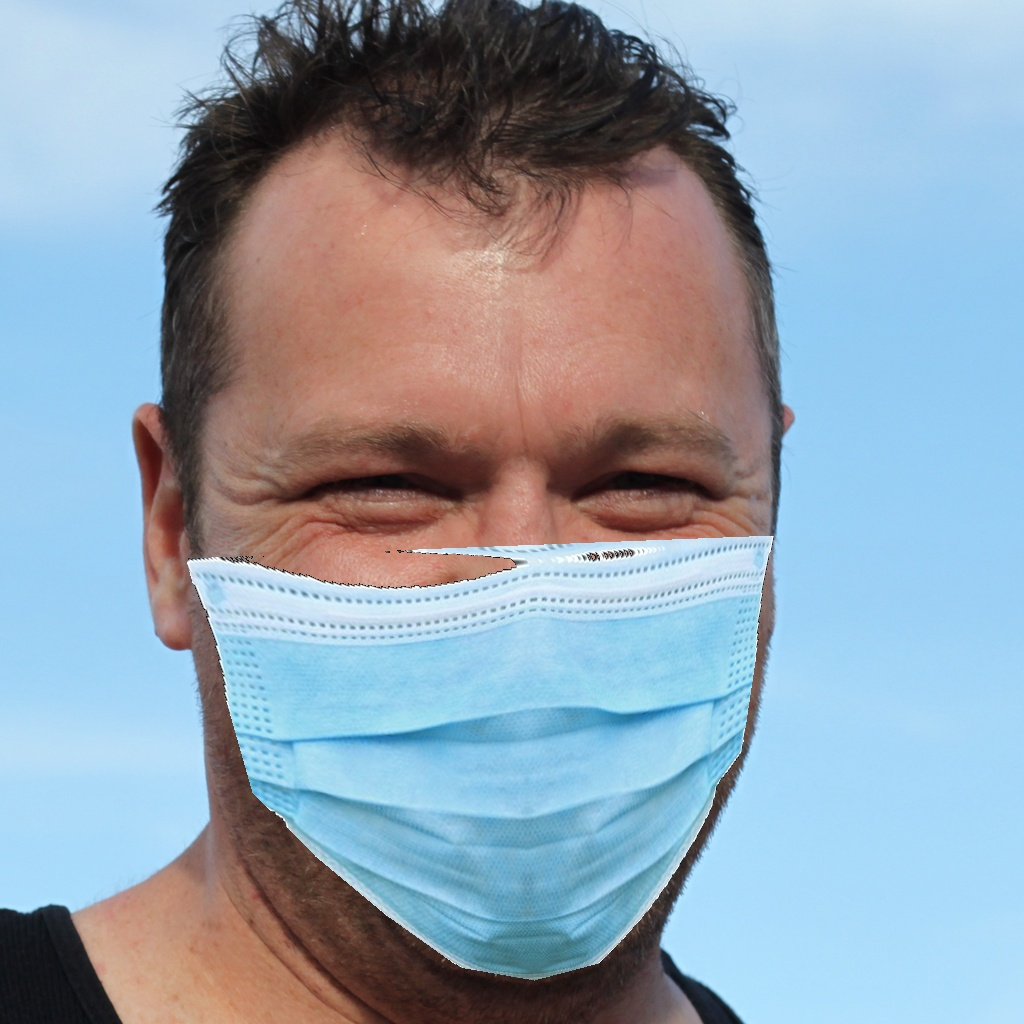Mask: (175, 359, 783, 978)
